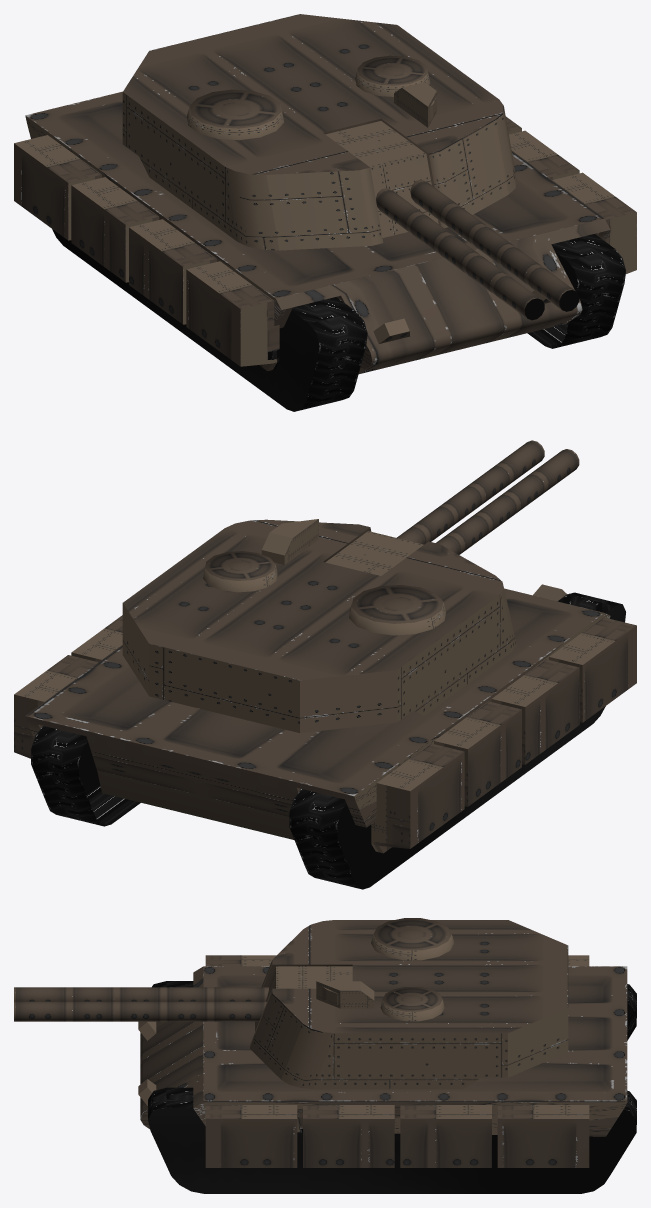
The model's file is Tank_Lvl2.fbx.
3 views of the same model, one above another, from view 1: azimuth 30°, elevation 25°; view 2: azimuth 150°, elevation 25°; view 3: azimuth 270°, elevation 25° (orthographic). The views are drawn at different scales.
Visible parts, largest first — view 1: Tank_Lvl2; view 2: Tank_Lvl2; view 3: Tank_Lvl2.
Part boxes in pixels (left/top/right/bottom): Tank_Lvl2: left=14, top=14, right=636, bottom=411; Tank_Lvl2: left=14, top=440, right=636, bottom=889; Tank_Lvl2: left=14, top=918, right=636, bottom=1193.
Bounding box in the file's own units: 4.54 × 1.38 × 2.82.
